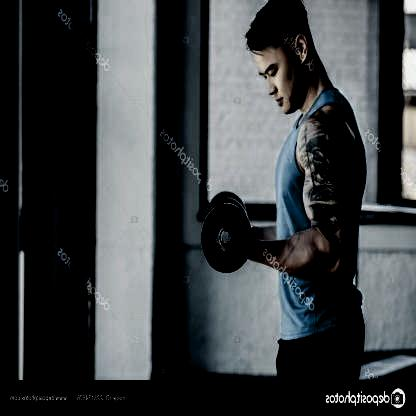Barbell: (216, 224, 230, 249)
